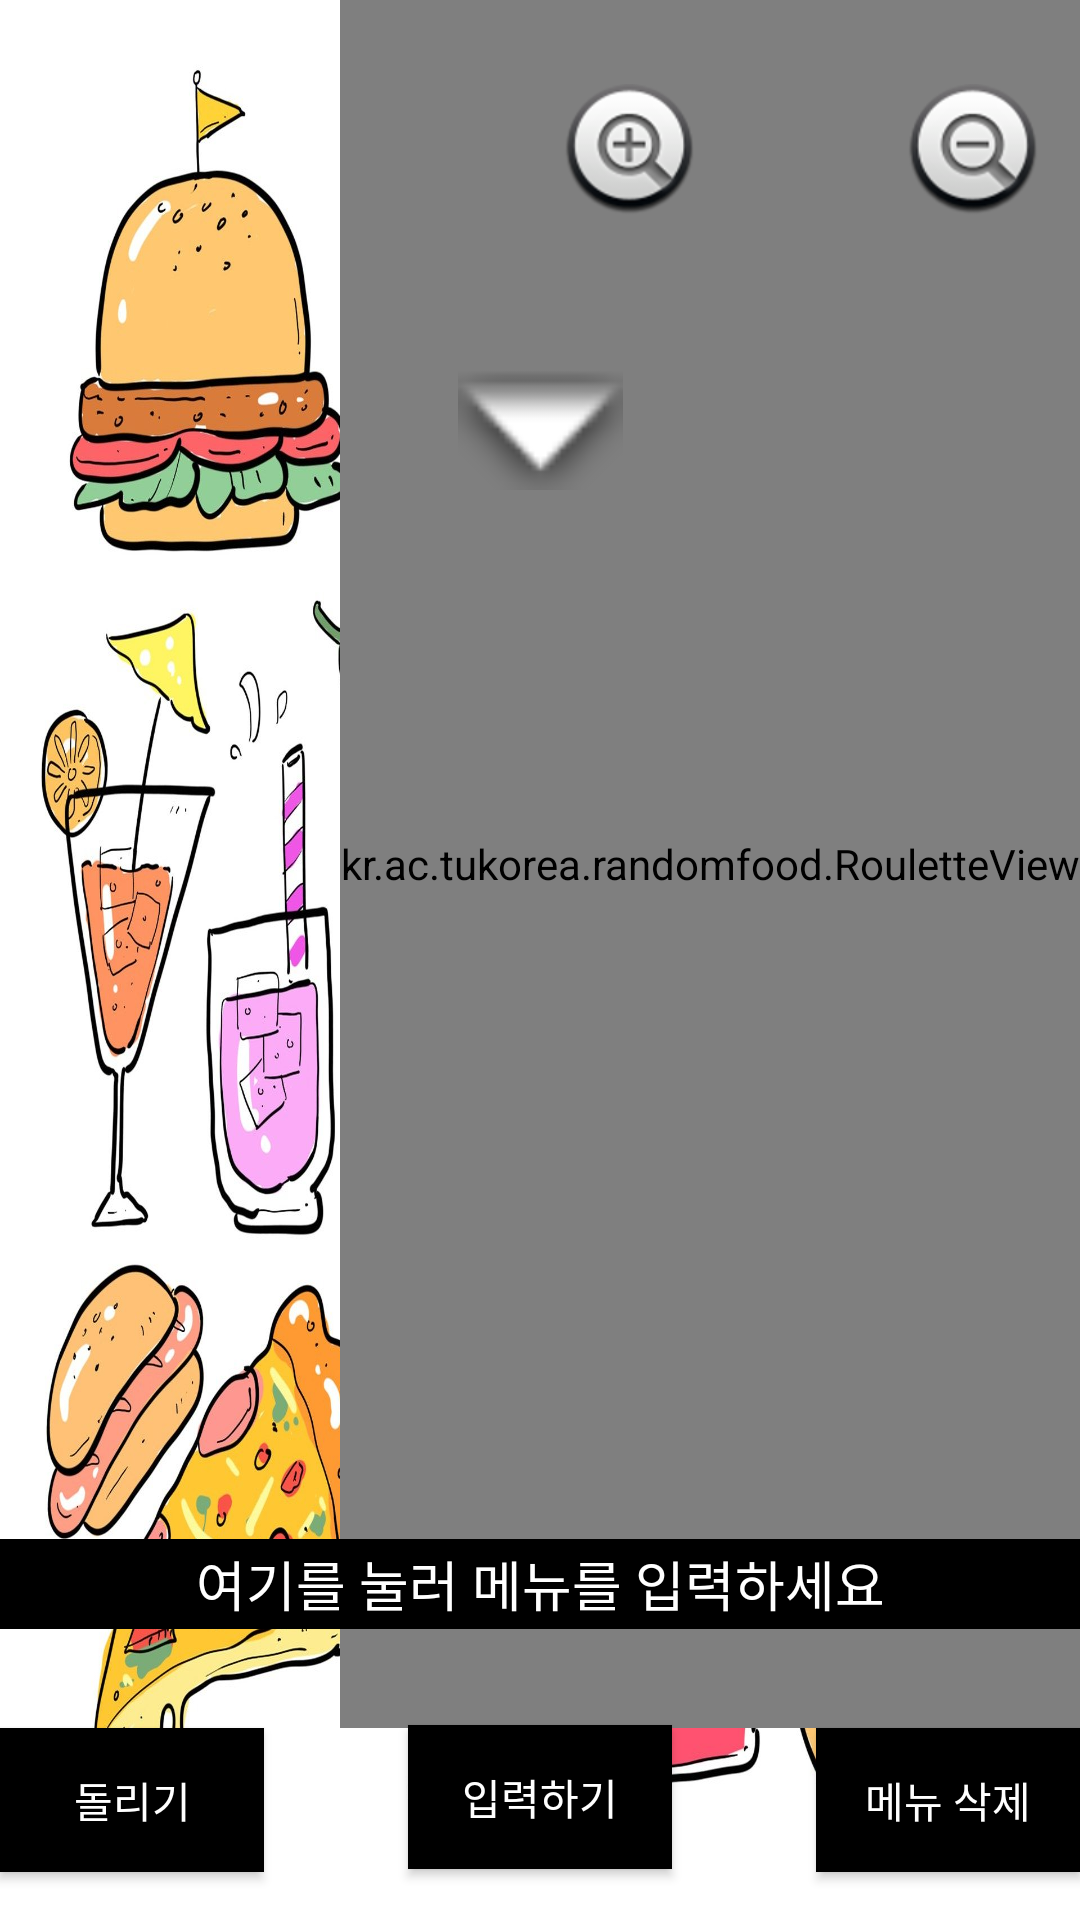

Where to tap for icons on this 1080x1920 app screen, as (x,y):
arrow down float: (540,433)
minus: (973,151)
plus: (629,151)
